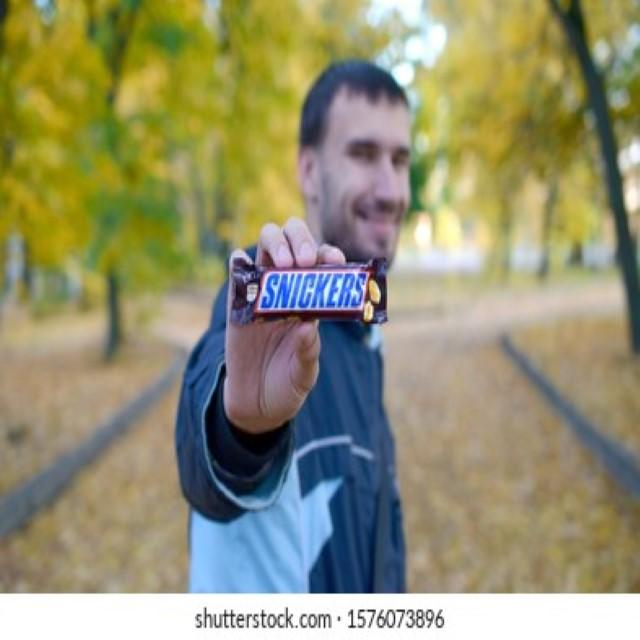snickers_chocolate: (245, 225, 383, 340)
